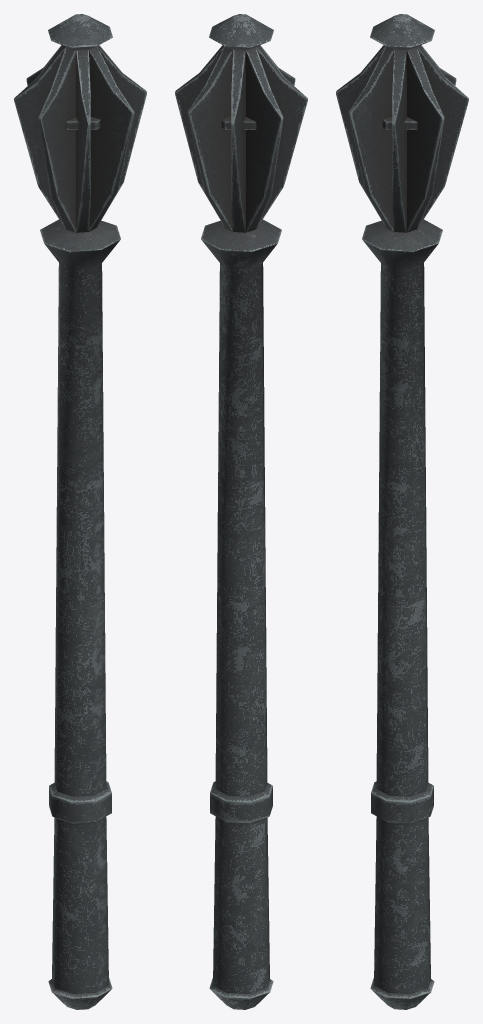
The model's file is mace.glb.
3 views of the same model, side by side, from view 1: azimuth 30°, elevation 25°; view 2: azimuth 150°, elevation 25°; view 3: azimuth 330°, elevation 25° (orthographic).
Visible parts, largest first — view 1: mace; view 2: mace; view 3: mace.
Boxes of the visible parts, x1=… form: mace: x1=14, y1=14, x2=146, y2=1009; mace: x1=175, y1=14, x2=307, y2=1009; mace: x1=336, y1=14, x2=468, y2=1009.
Bounding box in the file's own units: 0.1576 × 1.38 × 0.1576.
1 material, 1 textured.
